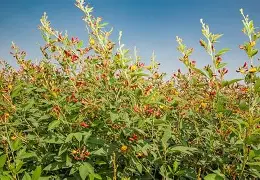crops: (0, 13, 254, 173), (0, 130, 38, 178)
